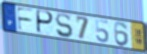5: (95, 18, 110, 44)
6: (113, 21, 130, 48)
7: (75, 15, 92, 41)
F: (15, 6, 35, 32)
P: (36, 9, 55, 35)
S: (55, 13, 74, 40)
